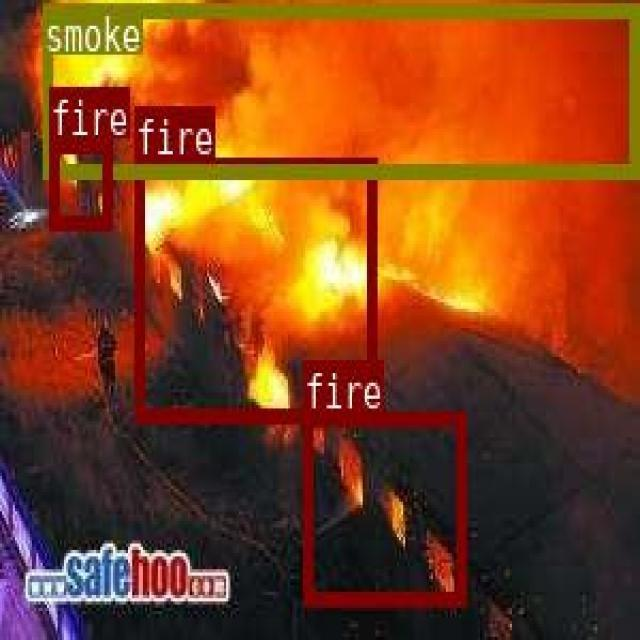fire: (134, 155, 374, 419), (301, 409, 464, 604), (47, 135, 109, 227)
smoke: (42, 3, 636, 174)
